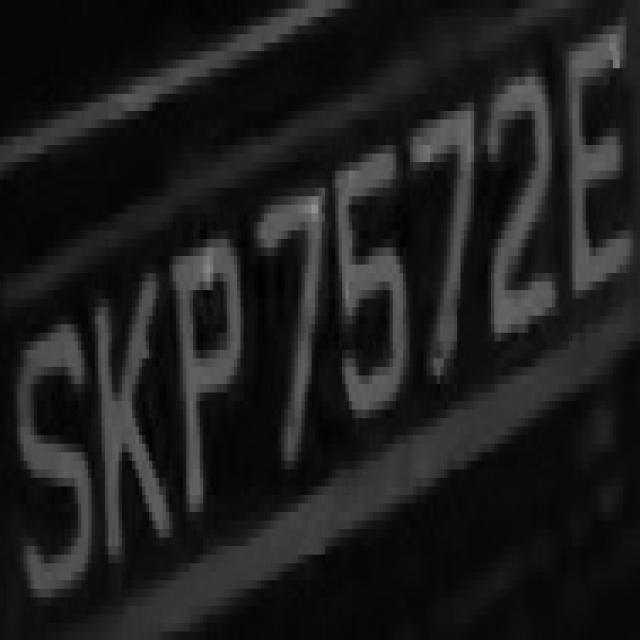2: (471, 68, 558, 376)
5: (328, 137, 406, 435)
7: (240, 162, 332, 504), (396, 77, 488, 401)
E: (552, 9, 640, 324)
K: (88, 230, 163, 572)
P: (156, 222, 257, 563)
S: (10, 264, 95, 632)
